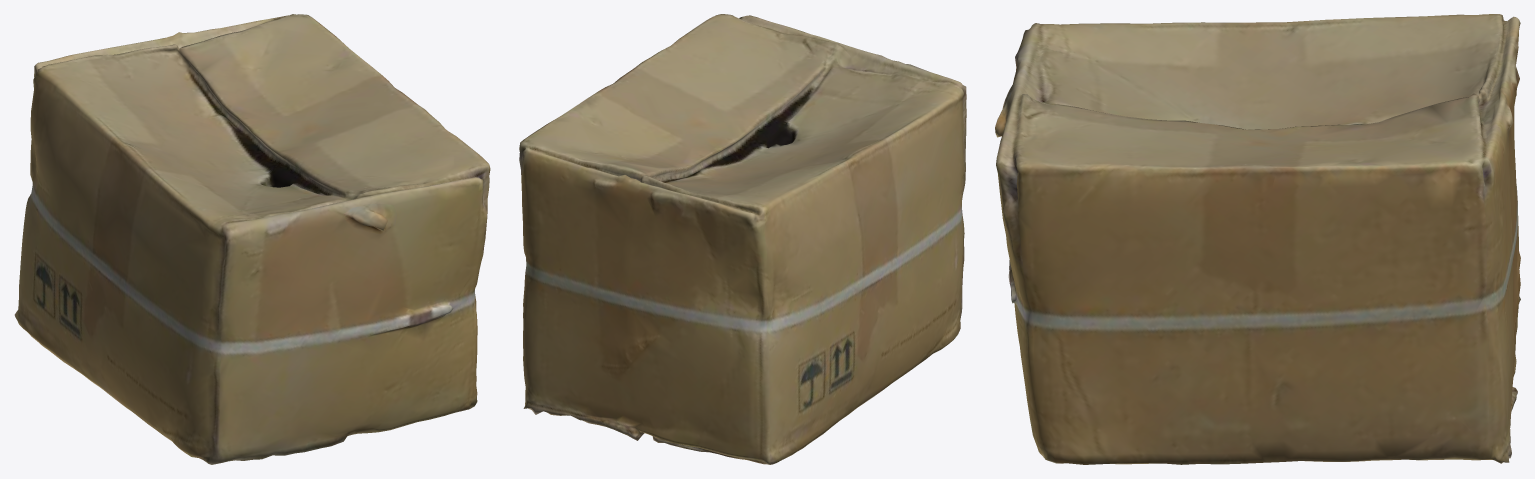
File: cardboard_box_01.glb
The picture shows the model from 3 angles, left to right: view 1: azimuth 30°, elevation 25°; view 2: azimuth 150°, elevation 25°; view 3: azimuth 270°, elevation 25°; orthographic projection. The views are drawn at different scales.
Visible parts, largest first — view 1: cardboard_box_01; view 2: cardboard_box_01; view 3: cardboard_box_01.
Part boxes in pixels (left/top/right/bottom): cardboard_box_01: left=14, top=14, right=490, bottom=464; cardboard_box_01: left=519, top=14, right=966, bottom=464; cardboard_box_01: left=995, top=14, right=1520, bottom=464.
Size of the model in its own units: 0.387 by 0.3418 by 0.5159.
1 material, 1 textured.
